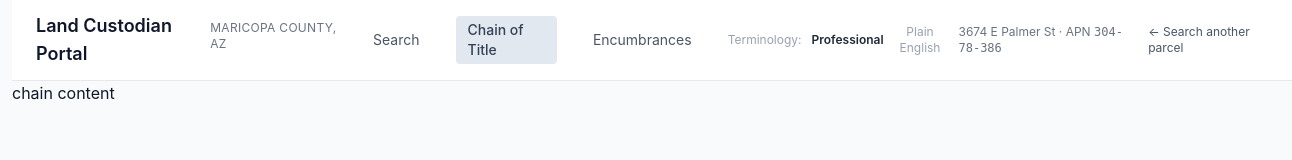
Nav terminology toggle › switches to plain-English labels on toggle
Click the button "Plain English" at [920, 40], box [894,22,946,58]
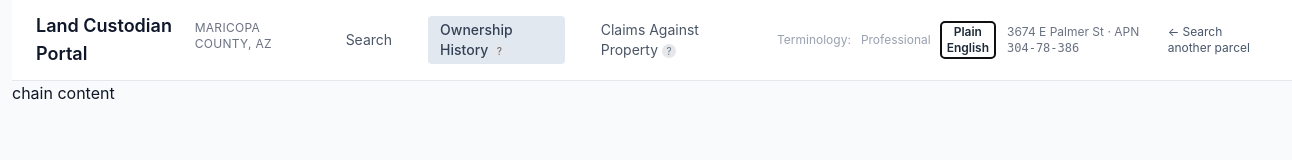
Expected: the link "Ownership History ?" is shown, [428,16,565,64]
Expected: the link "Claims Against Property ?" is shown, [601,21,699,58]
